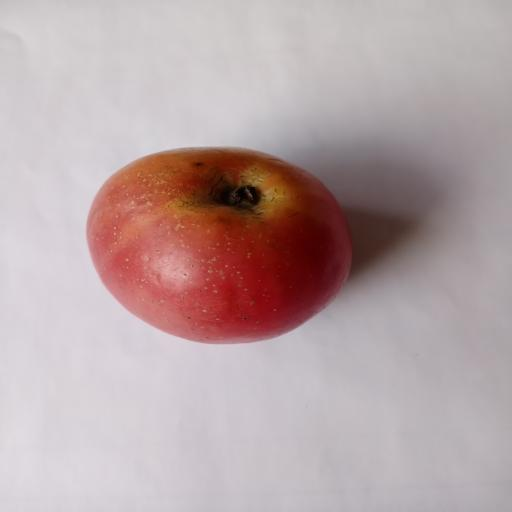apple-ripe: (77, 141, 367, 355)
